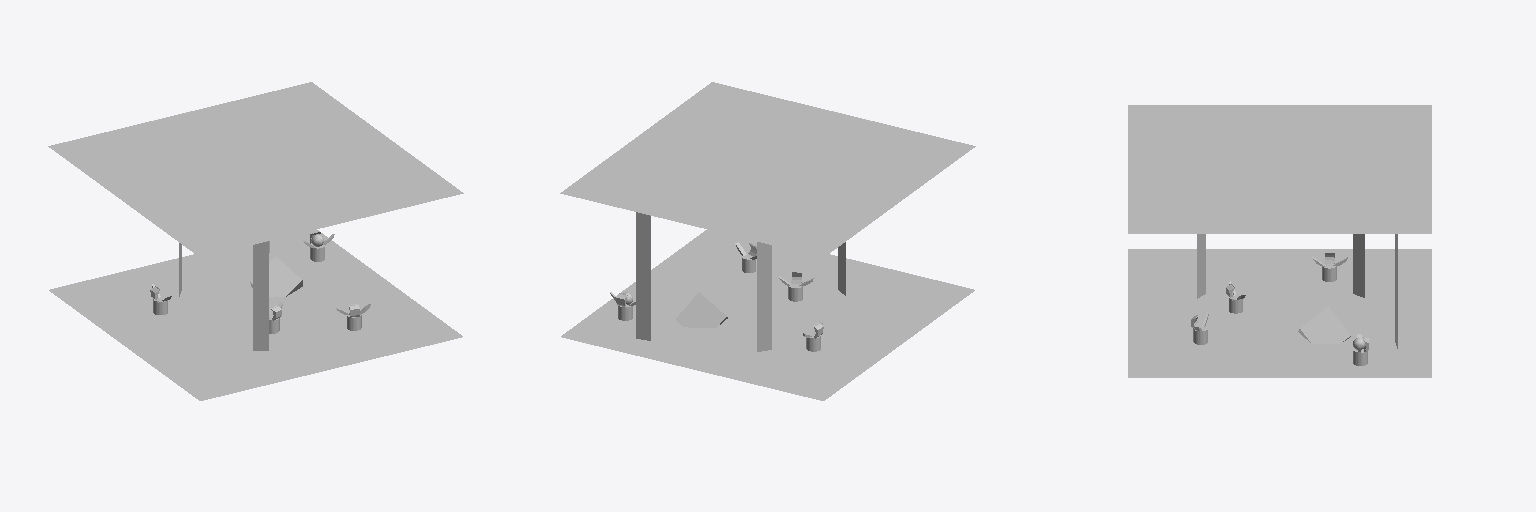
Rendered from DioramaMar.obj.
The picture shows the model from 3 angles: view 1: azimuth 30°, elevation 25°; view 2: azimuth 150°, elevation 25°; view 3: azimuth 270°, elevation 25°; orthographic projection.
Parts seen in each view (by area): view 1: Mar_Plane.001, Plane_Plane, Plane.001_Plane.002, CajaOxido_Cube.001; view 2: Mar_Plane.001, Plane_Plane, Plane.003_Plane.004, Plane.002_Plane.003, CajaOxido_Cube.001; view 3: Mar_Plane.001, Plane_Plane, CajaOxido_Cube.001, Plane.002_Plane.003, Plane.001_Plane.002.
Part boxes in pixels (bbox=[...]): Mar_Plane.001: bbox=[48, 82, 463, 257]; Plane_Plane: bbox=[49, 229, 462, 400]; Plane.001_Plane.002: bbox=[253, 241, 268, 350]; CajaOxido_Cube.001: bbox=[250, 256, 302, 296]; Mar_Plane.001: bbox=[560, 82, 975, 257]; Plane_Plane: bbox=[561, 229, 974, 400]; Plane.003_Plane.004: bbox=[636, 212, 650, 340]; Plane.002_Plane.003: bbox=[757, 242, 771, 351]; CajaOxido_Cube.001: bbox=[675, 292, 727, 327]; Mar_Plane.001: bbox=[1128, 105, 1431, 233]; Plane_Plane: bbox=[1128, 249, 1431, 377]; CajaOxido_Cube.001: bbox=[1298, 307, 1350, 343]; Plane.002_Plane.003: bbox=[1353, 234, 1364, 297]; Plane.001_Plane.002: bbox=[1197, 234, 1205, 298].
Size of the model in its own units: 14 by 8.73 by 14.